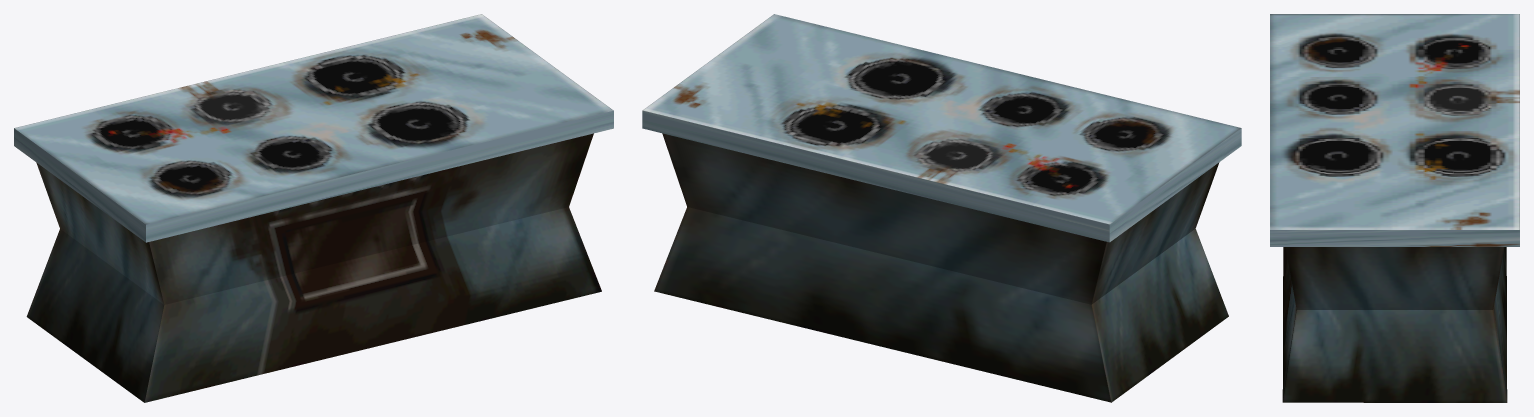
Rendered from Herd_1287.glb.
3 renders of one model, left to right at view 1: azimuth 30°, elevation 25°; view 2: azimuth 150°, elevation 25°; view 3: azimuth 270°, elevation 25°, orthographic. The views are drawn at different scales.
Visible parts, largest first — view 1: pPlaneShape32, pPlaneShape1, pPlaneShape34, pPlaneShape35, pPlaneShape38; view 2: pPlaneShape31, pPlaneShape1, pPlaneShape34, pPlaneShape36, pPlaneShape38; view 3: pPlaneShape1, pPlaneShape33, pPlaneShape37, pPlaneShape32, pPlaneShape31.
Boxes of the visible parts, box(x1,y1,x2,y2) form: pPlaneShape32: box(144, 133, 601, 402); pPlaneShape1: box(14, 14, 613, 224); pPlaneShape34: box(27, 162, 164, 402); pPlaneShape35: box(146, 110, 613, 242); pPlaneShape38: box(14, 128, 145, 242); pPlaneShape31: box(654, 133, 1111, 402); pPlaneShape1: box(642, 14, 1241, 224); pPlaneShape34: box(1091, 162, 1228, 402); pPlaneShape36: box(642, 110, 1109, 242); pPlaneShape38: box(1109, 128, 1241, 241); pPlaneShape1: box(1270, 14, 1519, 229); pPlaneShape33: box(1283, 247, 1507, 402); pPlaneShape37: box(1270, 230, 1519, 246); pPlaneShape32: box(1282, 247, 1296, 401); pPlaneShape31: box(1493, 247, 1507, 401).
Bounding box in the file's own units: 0.3068 × 0.116 × 0.15.
9 materials, 9 textured.
